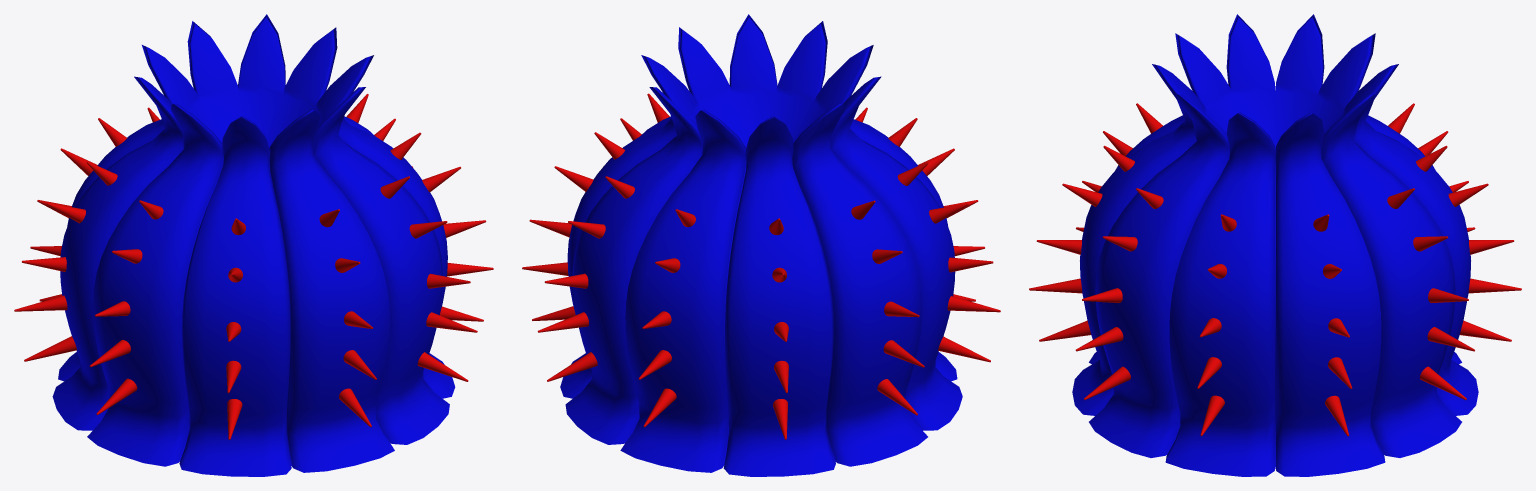
The model's file is SpikedBulb_01.fbx.
The picture shows the model from 3 angles, left to right: view 1: azimuth 30°, elevation 25°; view 2: azimuth 150°, elevation 25°; view 3: azimuth 270°, elevation 25°; orthographic projection.
Parts seen in each view (by area): view 1: SpikedBulb_01; view 2: SpikedBulb_01; view 3: SpikedBulb_01.
Boxes of the visible parts, bbox=[...] form: SpikedBulb_01: bbox=[14, 14, 493, 476]; SpikedBulb_01: bbox=[522, 14, 1000, 476]; SpikedBulb_01: bbox=[1029, 14, 1521, 476].
Size of the model in its own units: 150 by 116 by 157.
